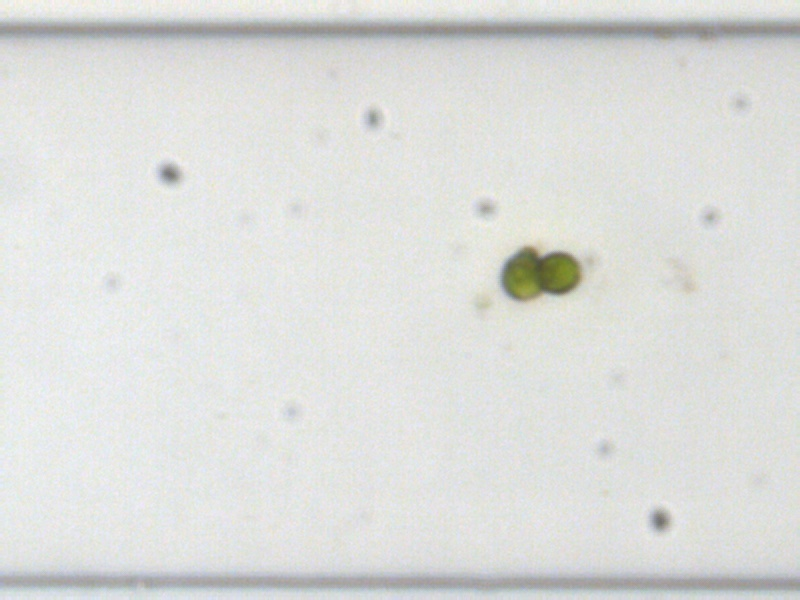Platymonas: (498, 245, 544, 301), (536, 249, 581, 295)
